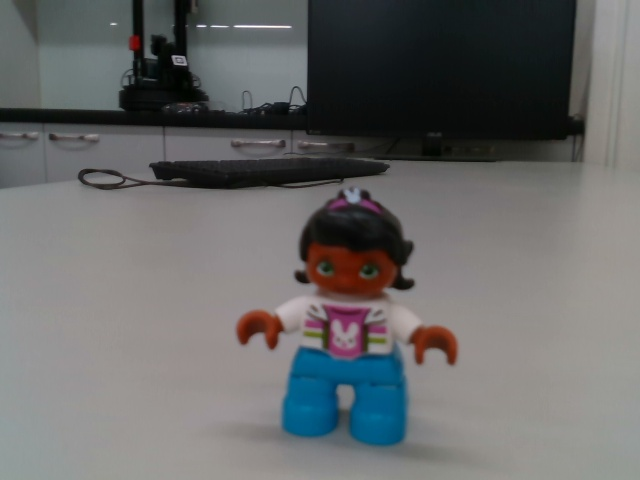people: (232, 187, 461, 448)
